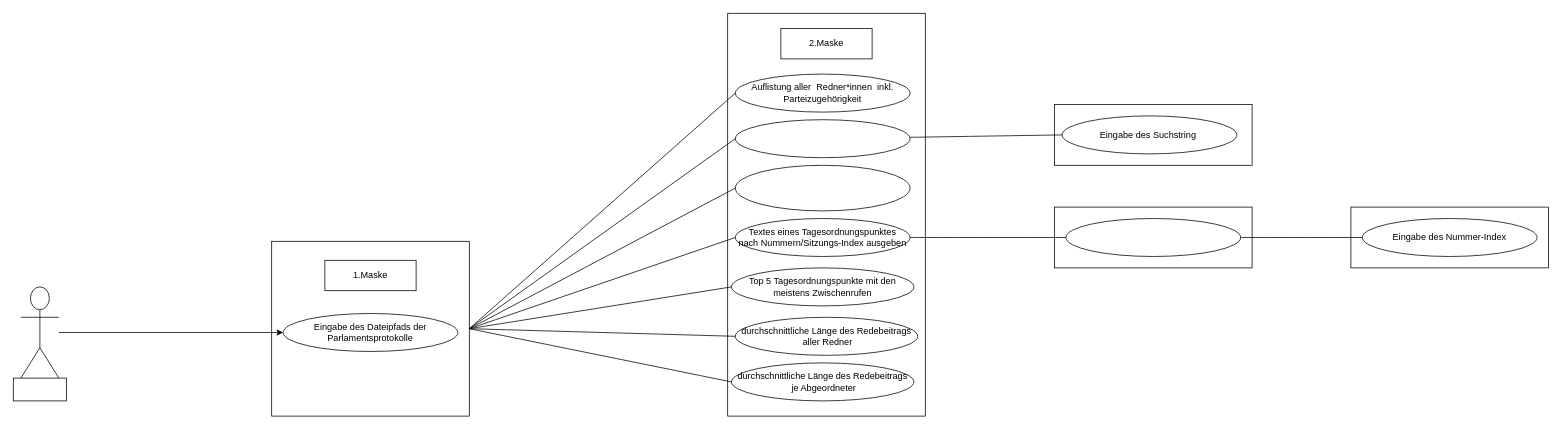
Image size: 1562x429. Some labels were removed from this diagram. The box of each missing label's shape, as (x1, y1, x2, y2) in pixels:
Actor: (20, 286, 59, 378)
Auflistung aller Redner*innen einer Partei: (735, 165, 910, 211)
Eingabe des Sitzung-Index: (1065, 218, 1241, 256)
Nach Namen eines Redners Filtern: (735, 119, 910, 158)
User: (13, 377, 66, 401)
